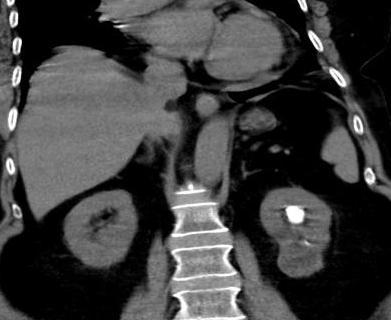Tas_Var: (284, 204, 307, 227), (303, 238, 310, 246)
